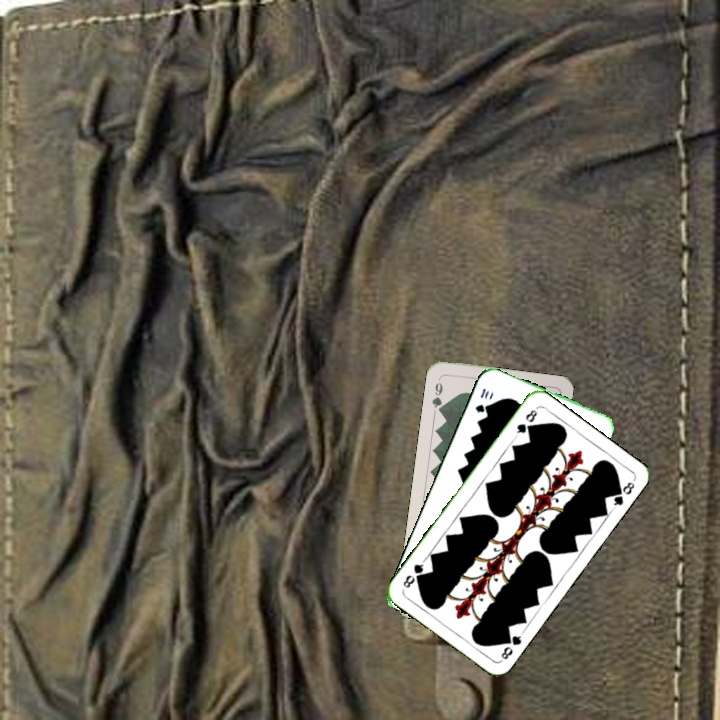G10: (471, 384, 492, 415)
G8: (497, 628, 526, 663), (511, 405, 540, 439)
G9: (428, 378, 445, 416)
